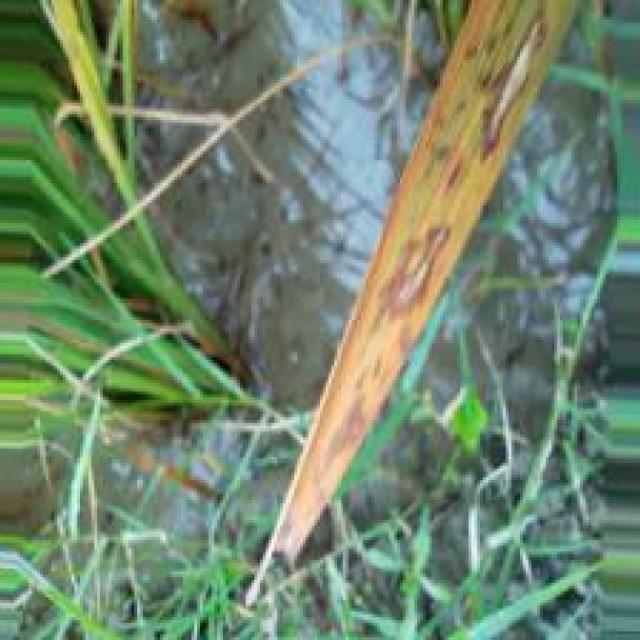Narrow_Brown_Leaf_Spot: (250, 0, 580, 583)
